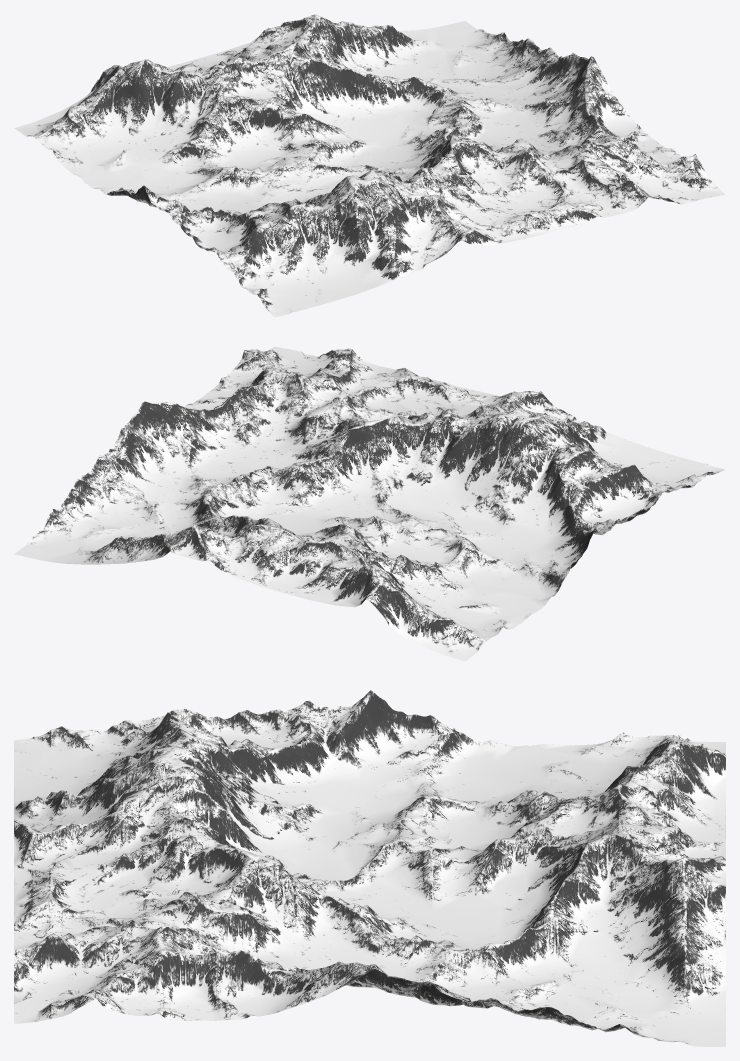
File: SnowyMountainMesh_TerrainMesh.fbx
The picture shows the model from 3 angles, top to bottom: view 1: azimuth 30°, elevation 25°; view 2: azimuth 150°, elevation 25°; view 3: azimuth 270°, elevation 25°; orthographic projection. The views are drawn at different scales.
Visible parts, largest first — view 1: SnowyMountainMesh_TerrainMesh; view 2: SnowyMountainMesh_TerrainMesh; view 3: SnowyMountainMesh_TerrainMesh.
Part boxes in pixels (<box>): SnowyMountainMesh_TerrainMesh: <box>14,14,725,317</box>; SnowyMountainMesh_TerrainMesh: <box>14,346,725,661</box>; SnowyMountainMesh_TerrainMesh: <box>14,690,725,1046</box>.
Size of the model in its own units: 65.29 by 9.23 by 65.29.
Materials: 1 (1 with a texture image).
